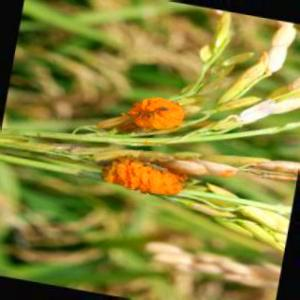Leaf_Scald: (100, 158, 186, 199), (125, 97, 185, 130)
